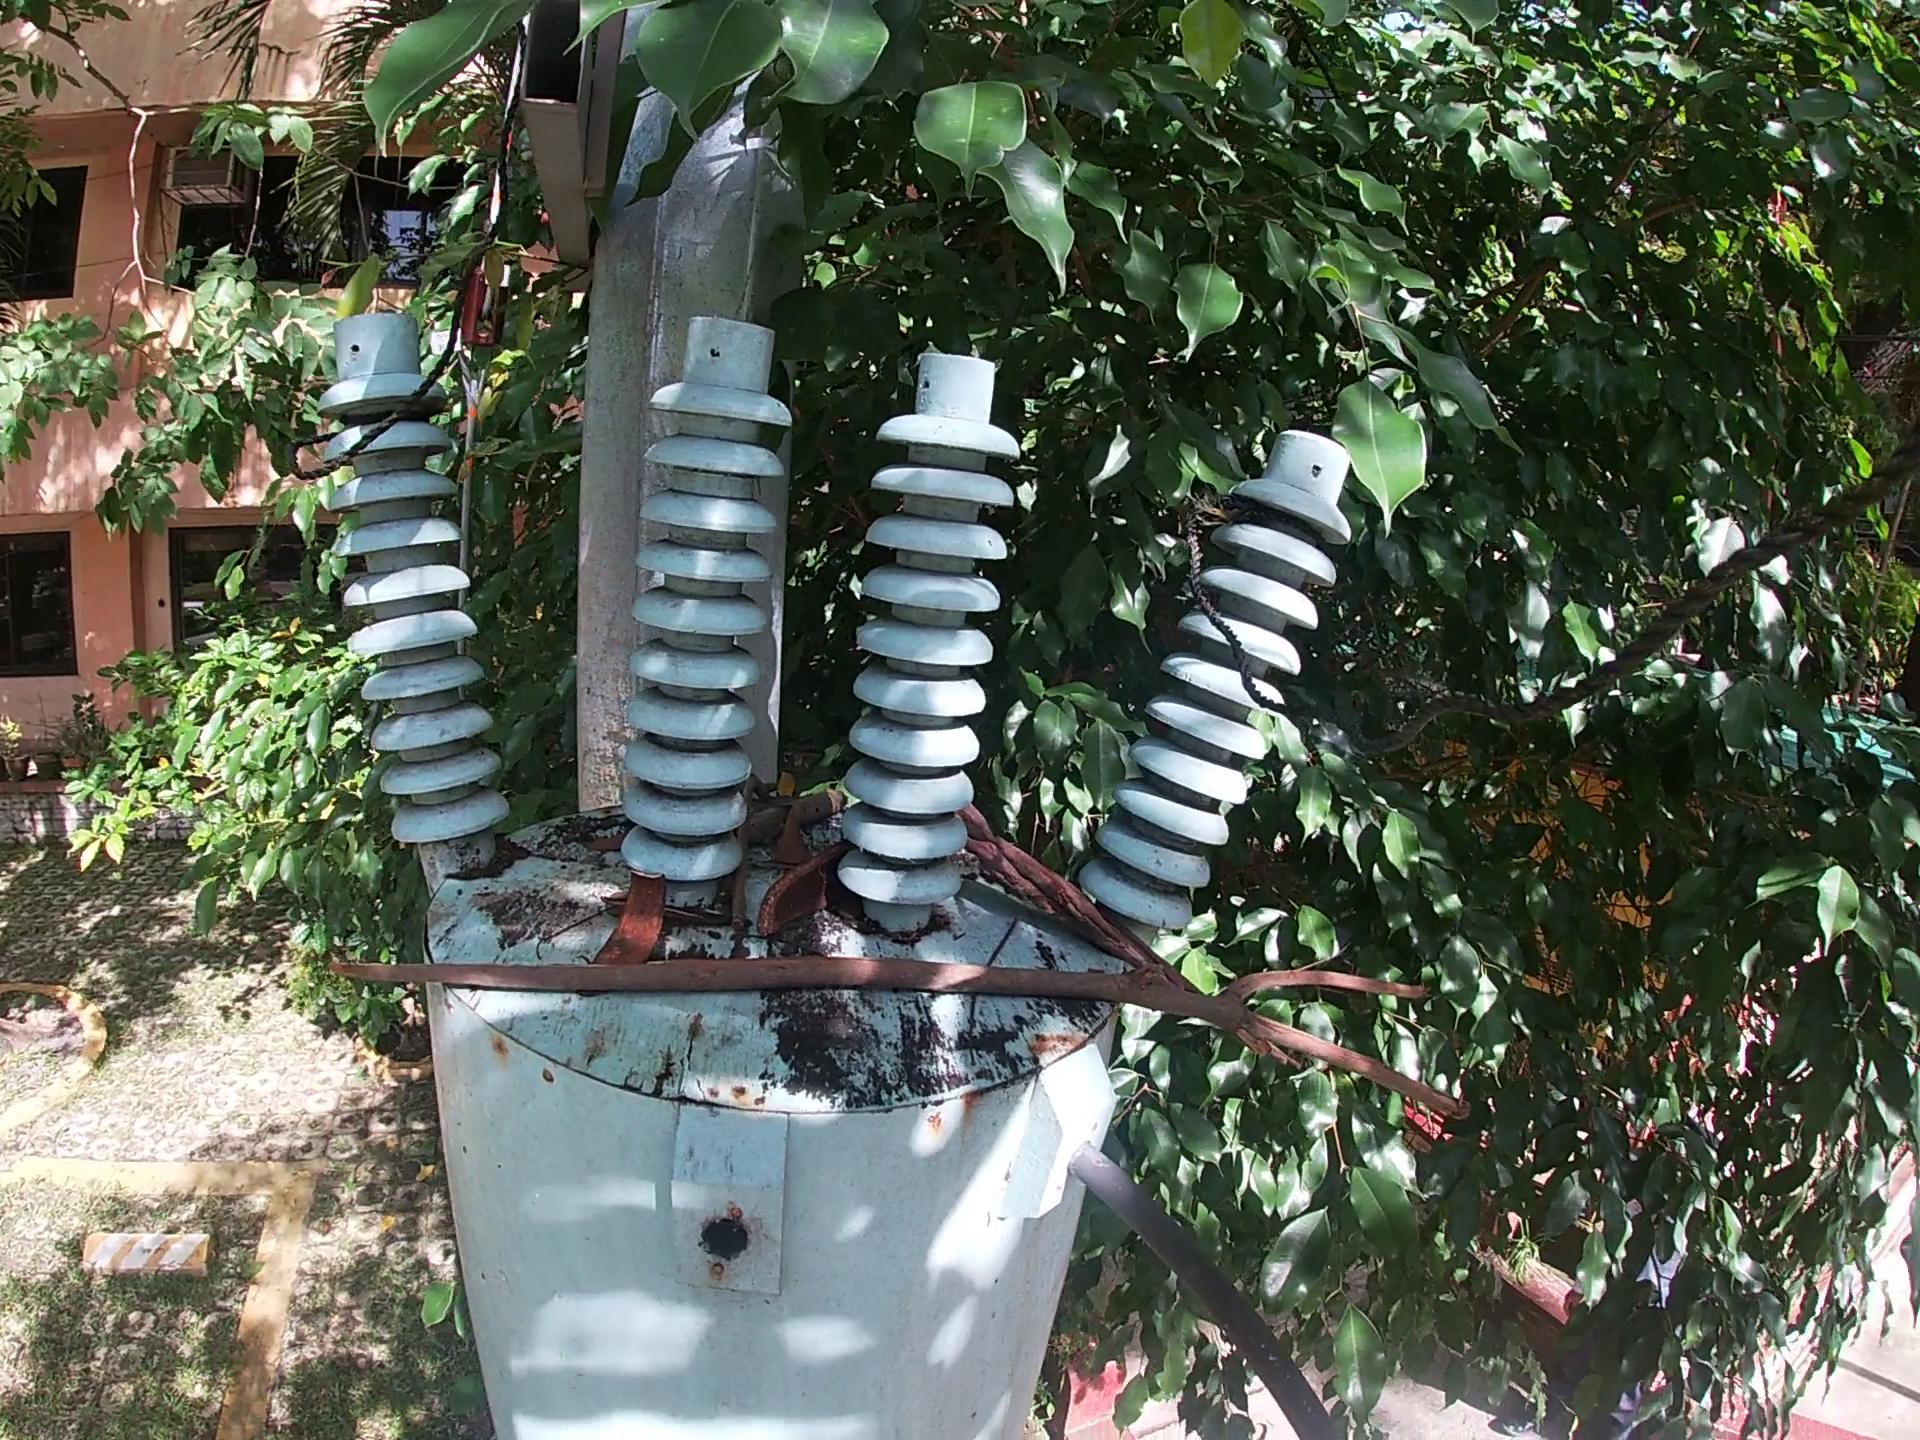leaf: (770, 809, 818, 874), (597, 882, 627, 929), (579, 835, 630, 858)
mahogany fruit: (757, 843, 860, 939), (591, 868, 674, 971)
tree branch: (317, 942, 1476, 1131), (960, 800, 1299, 1072), (723, 765, 782, 929), (736, 777, 857, 849)
